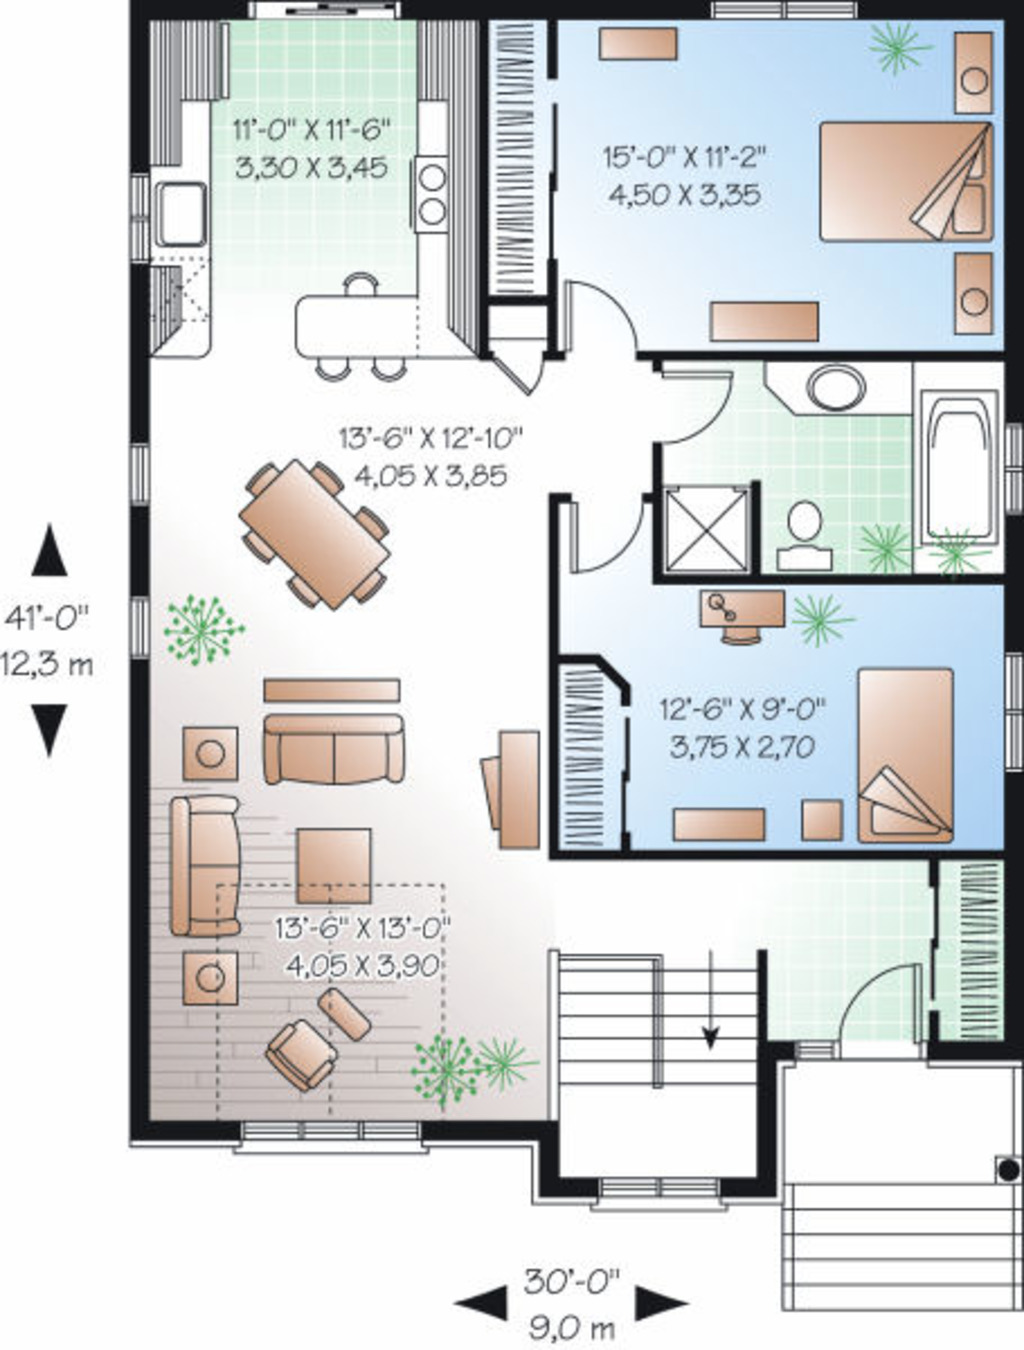bed: (821, 115, 995, 242), (852, 658, 956, 847)
dining_table: (227, 445, 415, 630)
door: (835, 933, 933, 1065), (641, 361, 746, 451), (549, 266, 645, 356), (560, 486, 644, 579)
kitchen_bar: (299, 269, 480, 379)
large_sink: (756, 499, 848, 575)
large_sofa: (163, 791, 241, 938), (265, 716, 406, 787)
sink: (138, 165, 231, 269)
small_sink: (773, 359, 902, 416)
small_sofa: (256, 1011, 345, 1104)
stairs: (537, 937, 770, 1181)
tub: (906, 363, 1010, 580)
window: (219, 1102, 441, 1154), (580, 1161, 723, 1222), (706, 1, 856, 33), (110, 434, 163, 511), (116, 592, 162, 666), (996, 646, 1020, 783), (996, 424, 1024, 507)
